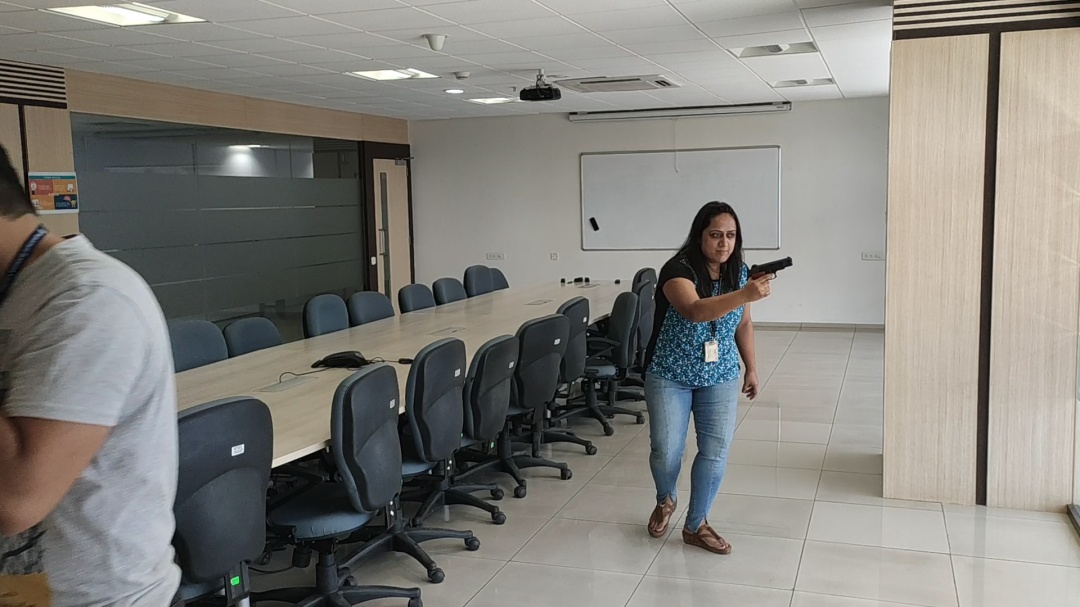gun: (750, 255, 794, 280)
